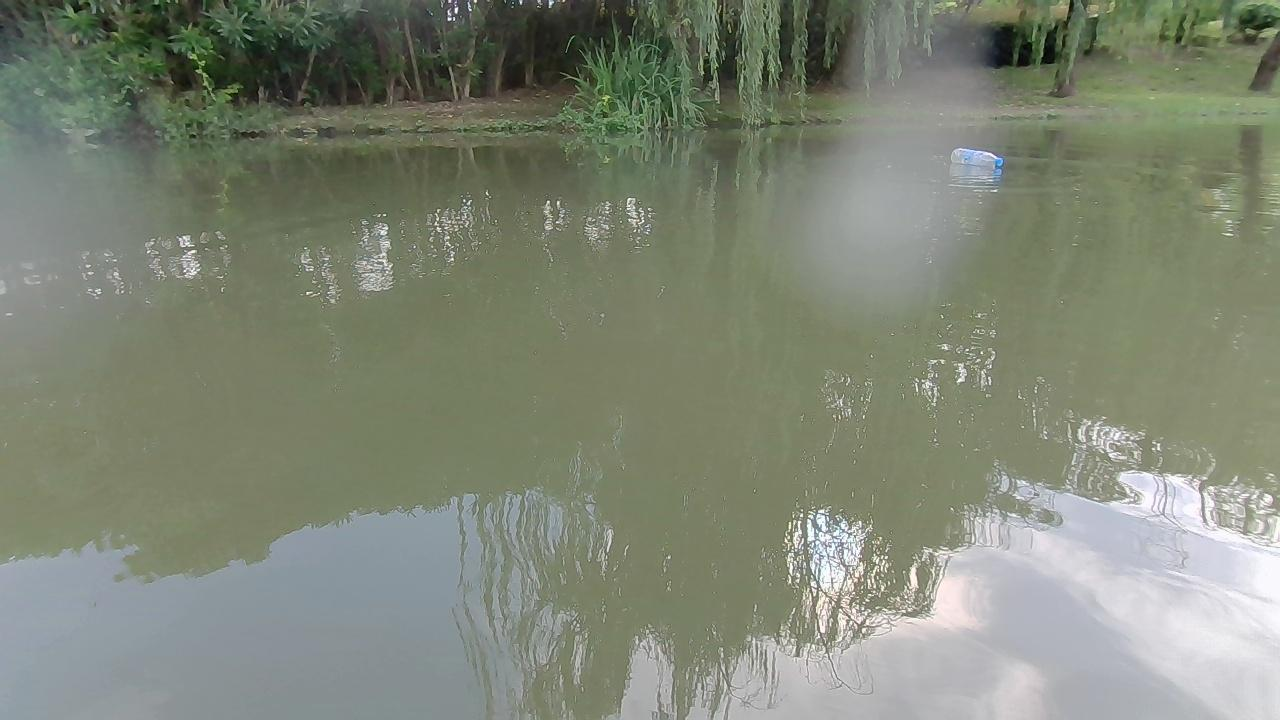bottle: (946, 142, 1006, 172)
